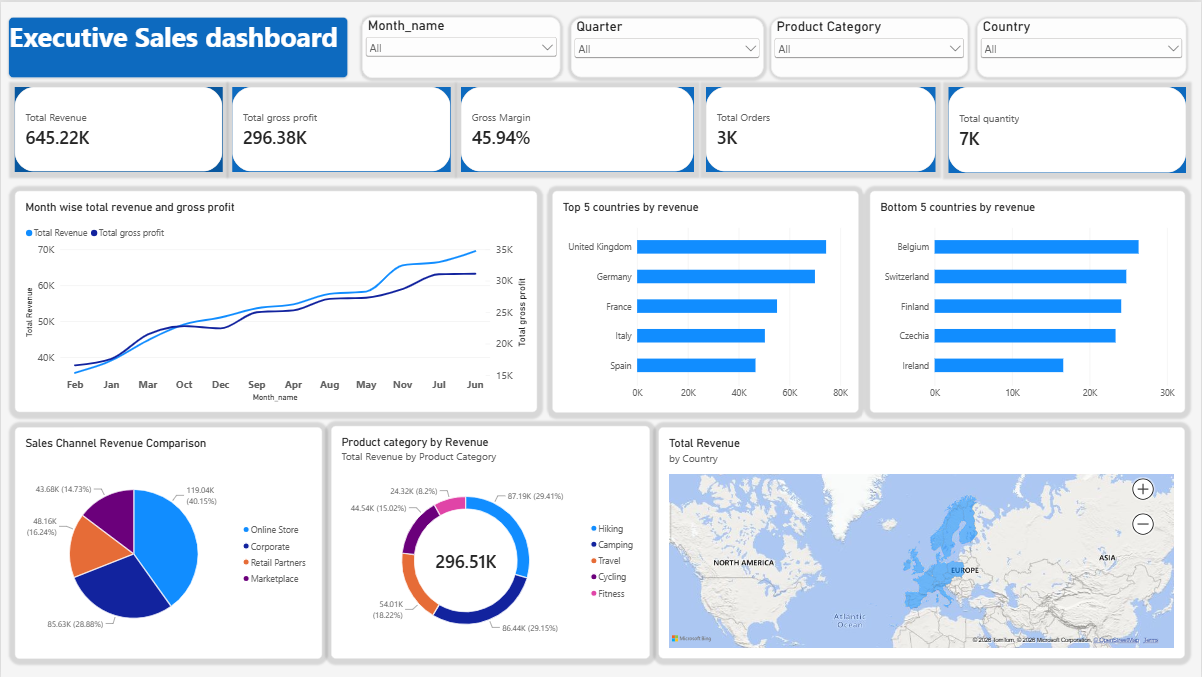

Layout of this report page (visuals, bound fields, positions):
{"tool":"powerbi","page":{"name":"Page 1","canvas":[1920,1080],"ordinal":0},"visuals":[{"type":"cardVisual","fields":{"Data":["All_measures.Gross Margin"]},"box":[736.5,135.7,372.8,135.7],"z":0},{"type":"cardVisual","fields":{"Data":["All_measures.Total gross profit"]},"box":[371,135.7,349.3,135.7],"z":1000},{"type":"cardVisual","fields":{"Data":["All_measures.Total Revenue"]},"box":[21.7,135.7,333,135.7],"z":2000},{"type":"cardVisual","fields":{"Data":["All_measures.Total Orders"]},"box":[1127.4,135.7,367.4,135.7],"z":3000},{"type":"cardVisual","fields":{"Data":["All_measures.Total quantity"]},"box":[1515,135,380,137.5],"z":4000},{"type":"textbox","box":[12.7,23.5,542.9,97.7],"z":5000},{"type":"slicer","fields":{"Values":["Date_table.Month_name"]},"box":[577.3,23.5,316.7,97.7],"z":6000},{"type":"slicer","fields":{"Values":["SalesDataTable.Product Category"]},"box":[1232.4,25.3,314.9,94.1],"z":7000},{"type":"slicer","fields":{"Values":["SalesDataTable.Country"]},"box":[1562,26,334,94],"z":8000},{"type":"slicer","fields":{"Values":["SalesDataTable.Quarter"]},"box":[912.1,25.3,307.6,94.1],"z":9000},{"type":"lineChart","title":"Month wise total revenue and gross profit","fields":{"Category":["Date_table.Month_name"],"Y":["All_measures.Total Revenue"],"Y2":["All_measures.Total gross profit"]},"box":[21.7,302.2,836.1,354.7],"z":10000},{"type":"clusteredBarChart","title":"Top 5 countries by revenue","fields":{"Category":["SalesDataTable.Country"],"Y":["All_measures.Total Revenue"]},"box":[882.5,302.5,490,355],"z":11000},{"type":"clusteredBarChart","title":"Bottom 5 countries by revenue","fields":{"Category":["SalesDataTable.Country"],"Y":["All_measures.Total Revenue"]},"box":[1390,302.5,505,355],"z":11001},{"type":"pieChart","title":"Sales Channel Revenue Comparison","fields":{"Category":["SalesDataTable.Sales Channel"],"Y":["All_measures.Total Revenue"]},"box":[21.7,680.4,492.2,371],"z":11002},{"type":"donutChart","title":"Product category by Revenue","fields":{"Category":["SalesDataTable.Product Category"],"Y":["All_measures.Total Revenue"]},"box":[528.4,678.6,510.3,372.8],"z":11003},{"type":"filledMap","fields":{"Category":["SalesDataTable.Country"]},"box":[1052.5,680,842.5,370],"z":11004}]}

Visuals, with their boxes in screenshot pixels (x1, y1, x2, y2), scaled from the page's 1920x1080 canvas onto the 1202x677 screenshot:
cardVisual - All_measures.Gross Margin: locate(461, 85, 694, 170)
cardVisual - All_measures.Total gross profit: locate(232, 85, 451, 170)
cardVisual - All_measures.Total Revenue: locate(14, 85, 222, 170)
cardVisual - All_measures.Total Orders: locate(706, 85, 936, 170)
cardVisual - All_measures.Total quantity: locate(948, 85, 1186, 171)
textbox: locate(8, 15, 348, 76)
slicer - Date_table.Month_name: locate(361, 15, 560, 76)
slicer - SalesDataTable.Product Category: locate(772, 16, 969, 75)
slicer - SalesDataTable.Country: locate(978, 16, 1187, 75)
slicer - SalesDataTable.Quarter: locate(571, 16, 764, 75)
"Month wise total revenue and gross profit" lineChart: locate(14, 189, 537, 412)
"Top 5 countries by revenue" clusteredBarChart: locate(552, 190, 859, 412)
"Bottom 5 countries by revenue" clusteredBarChart: locate(870, 190, 1186, 412)
"Sales Channel Revenue Comparison" pieChart: locate(14, 427, 322, 659)
"Product category by Revenue" donutChart: locate(331, 425, 650, 659)
filledMap - SalesDataTable.Country: locate(659, 426, 1186, 658)
